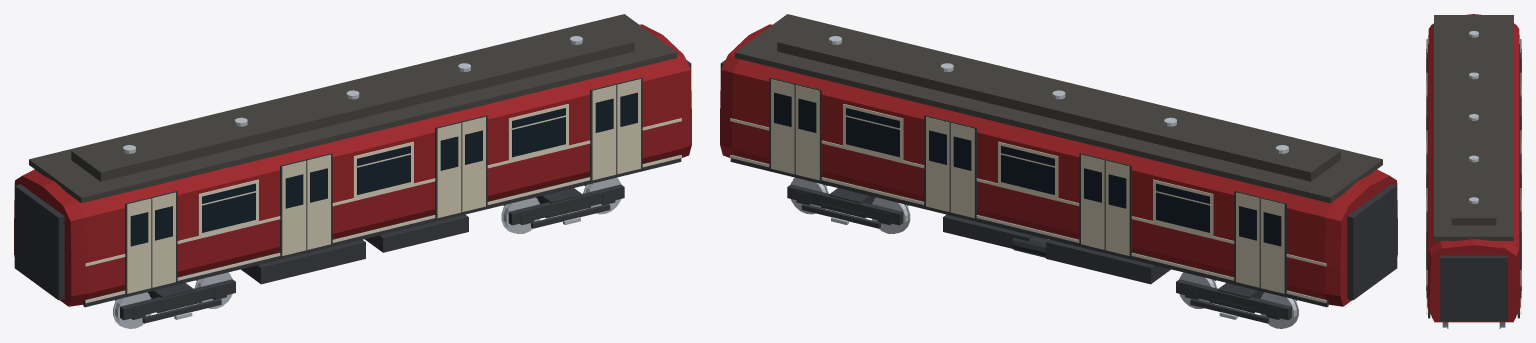
Rendered from sprague_car.glb.
The picture shows the model from 3 angles, left to right: view 1: azimuth 30°, elevation 25°; view 2: azimuth 150°, elevation 25°; view 3: azimuth 270°, elevation 25°; orthographic projection. The views are drawn at different scales.
Visible parts, largest first — view 1: sprague_neutral; view 2: sprague_neutral; view 3: sprague_neutral.
Boxes of the visible parts, x1=… form: sprague_neutral: x1=14, y1=14, x2=691, y2=328; sprague_neutral: x1=720, y1=14, x2=1397, y2=328; sprague_neutral: x1=1426, y1=14, x2=1521, y2=328.
Size of the model in its own units: 14.34 by 3.55 by 2.47.
1 material, 1 textured.
